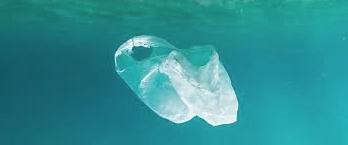Trash: (91, 30, 255, 138)
